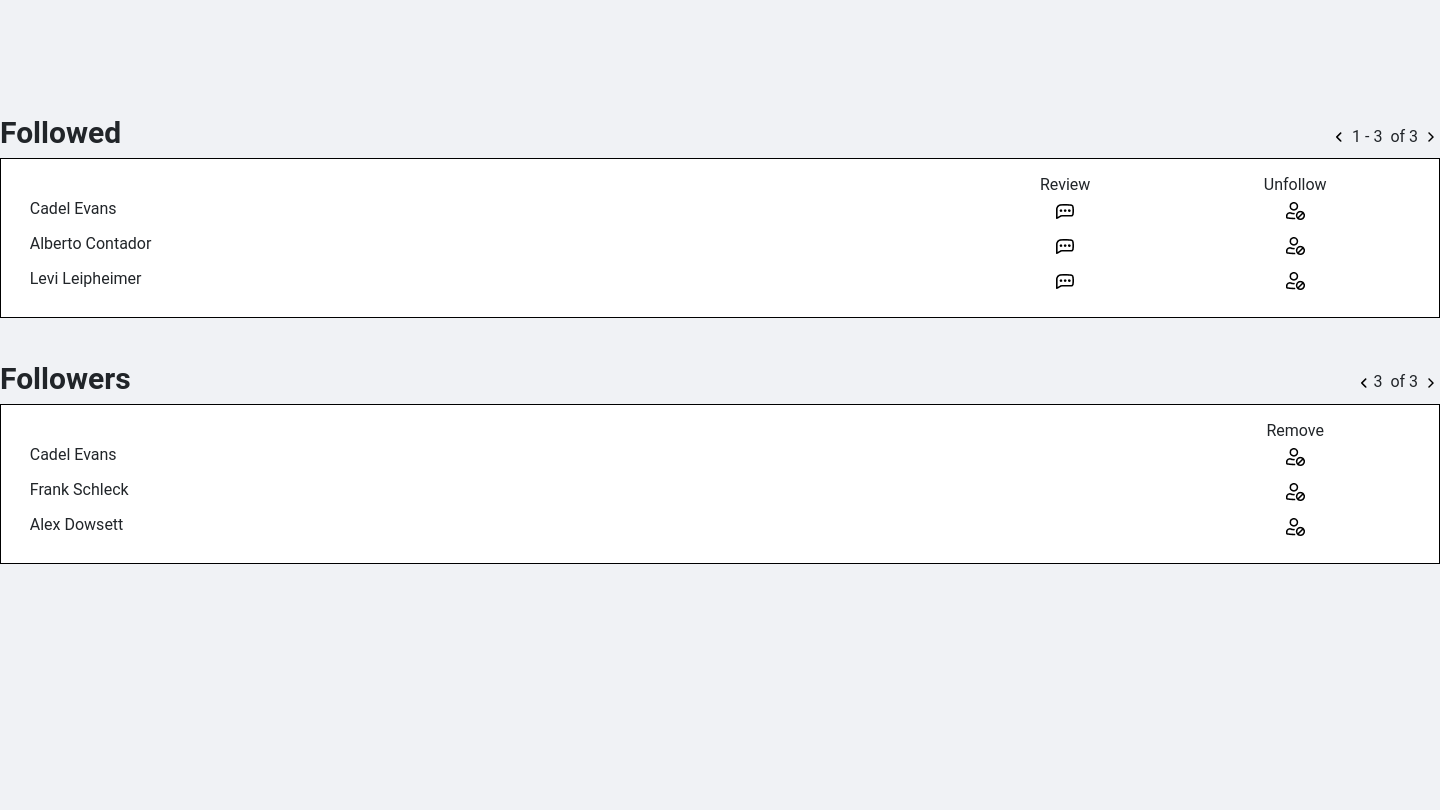
it: UI testing for the follows component › Test 6: User reviews someone they follow
The width and height of the screenshot is (1440, 810).
Step 1. Click the 3rd button with alt text "Review icon" → (1065, 210), box [1050,197,1080,223]
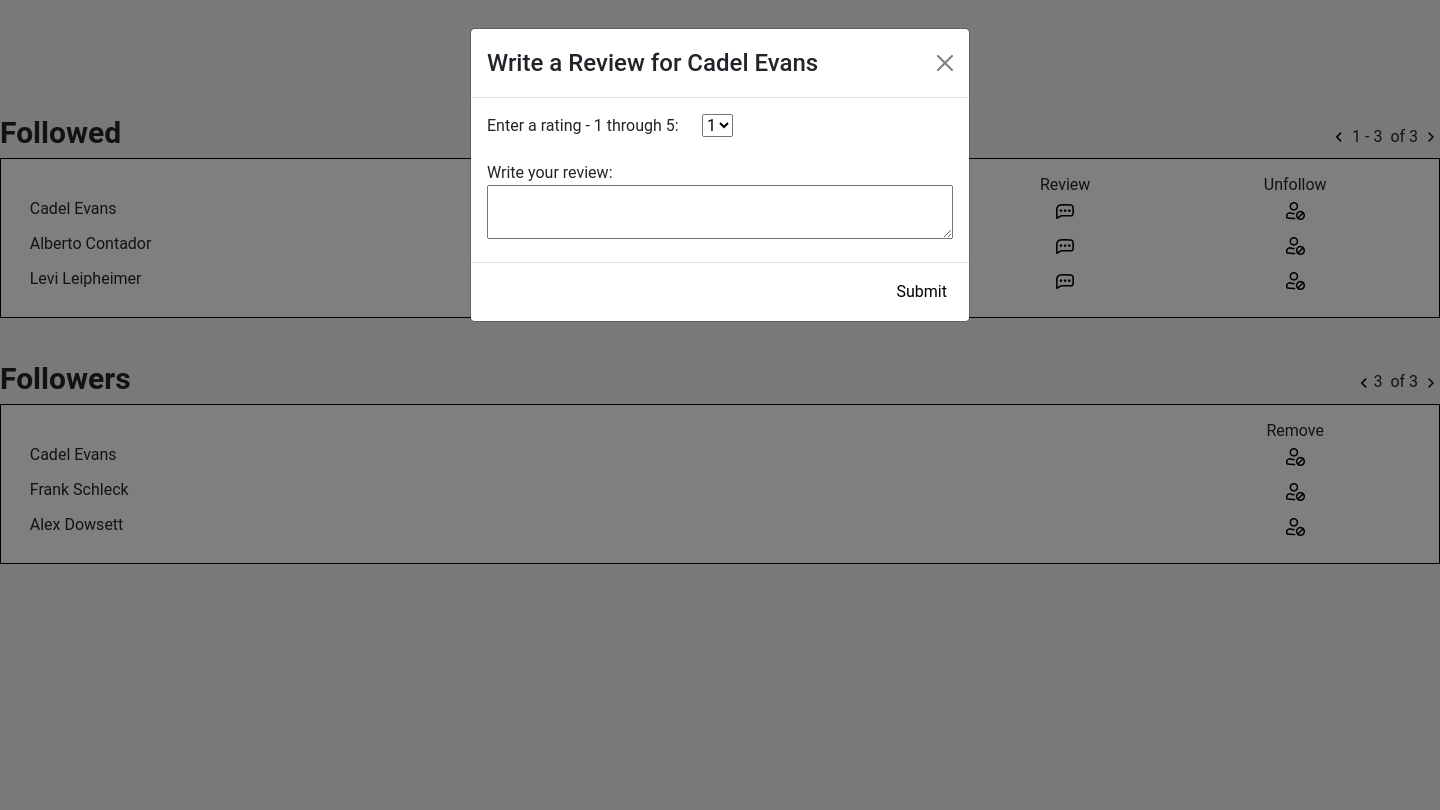
Step 2. Select "5" in the dropdown → (718, 126), box [702,114,733,137]
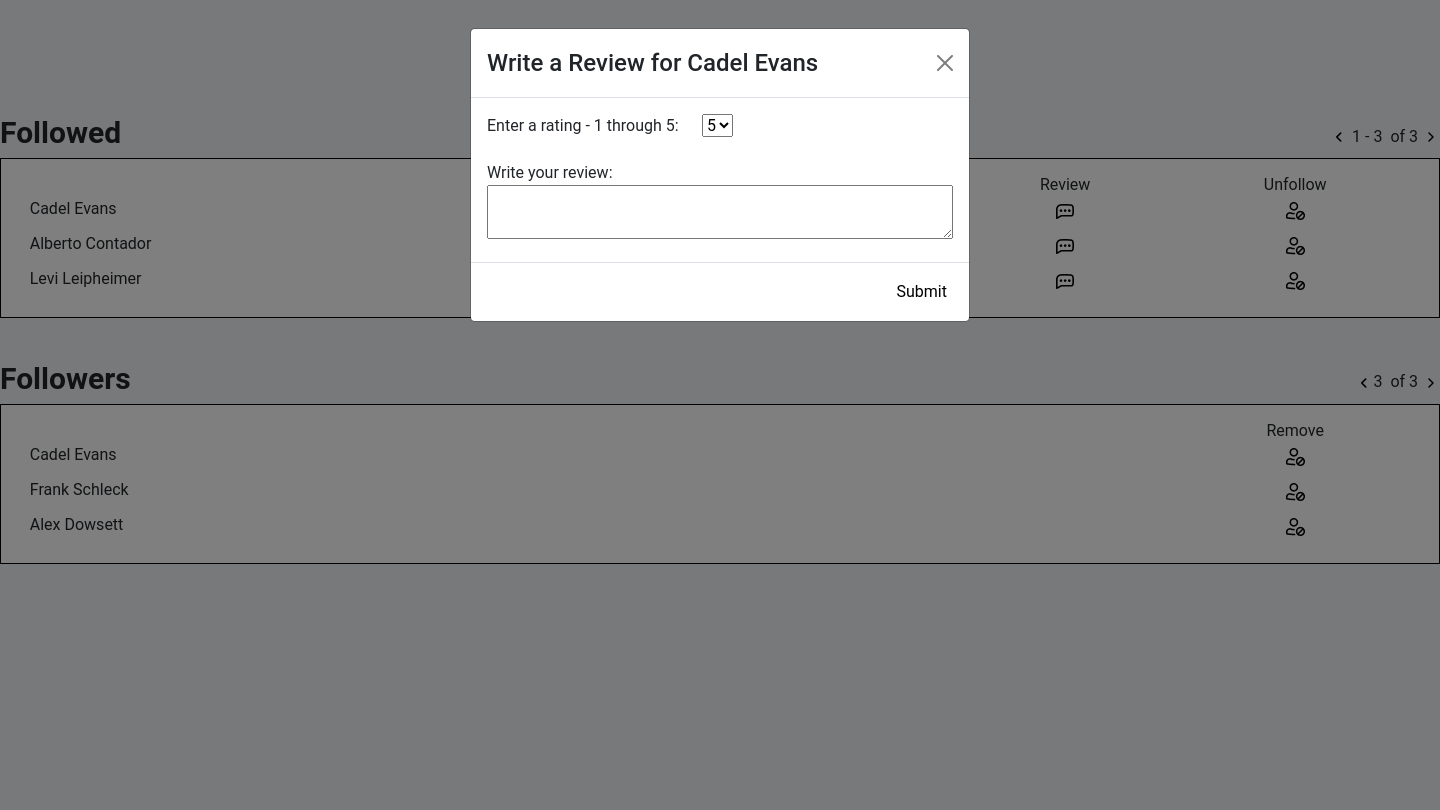
Step 3. Type "Testing review." into the text box → (720, 212), box [487,185,953,239]
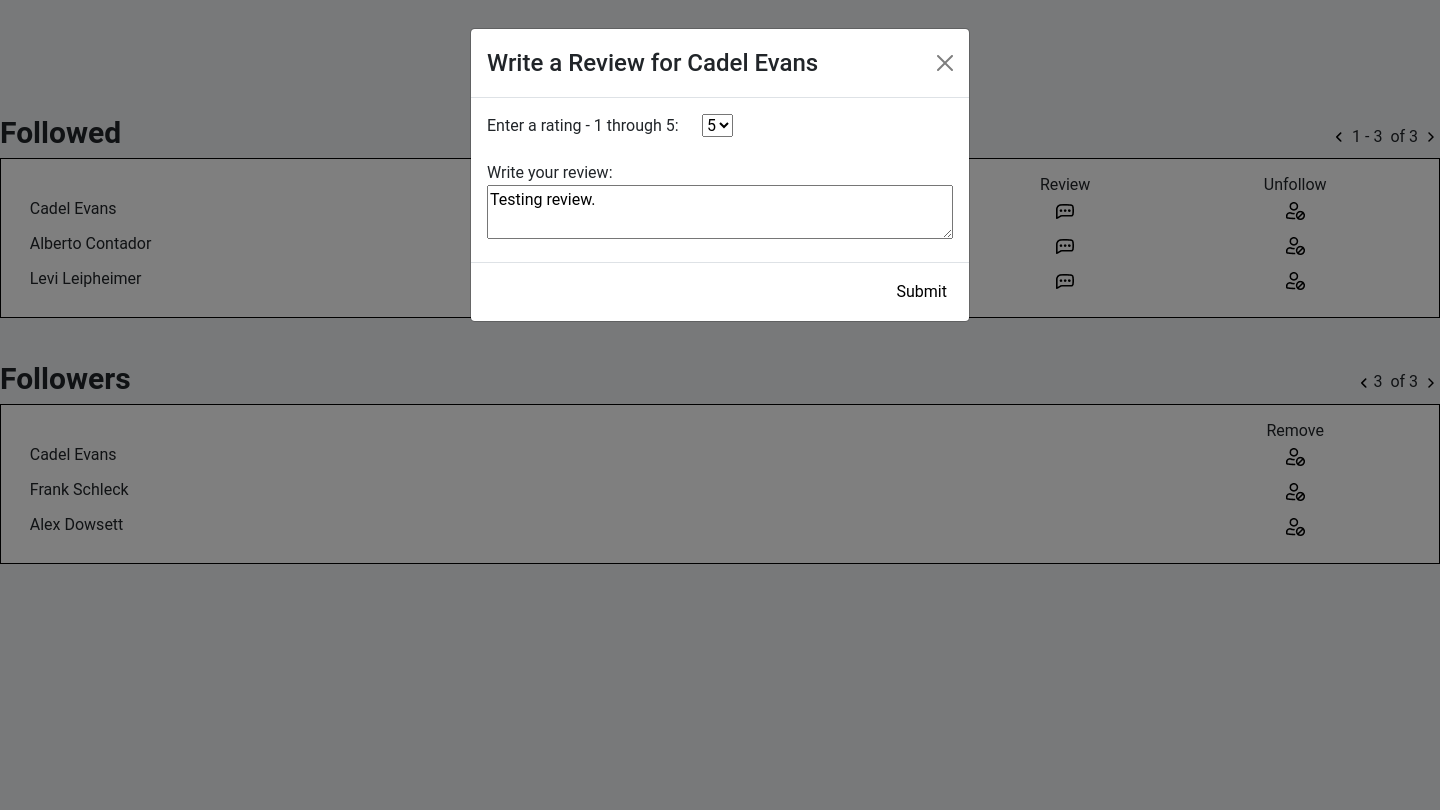
Expected: the text "Write a Review for Cadel Evans" is shown, [487,45,818,81]
Step 4. Click the button "Submit" → (922, 292), box [890,279,953,305]
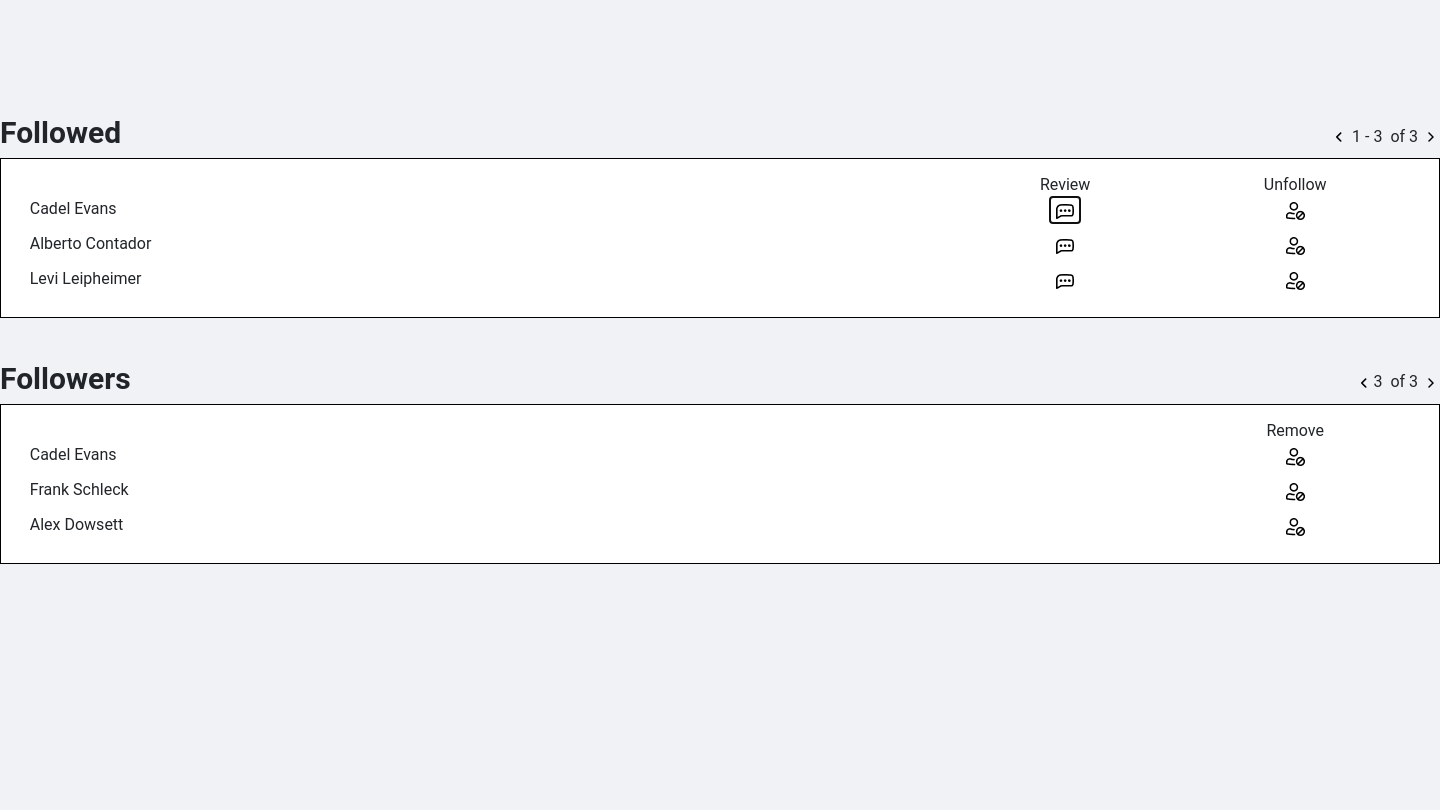
Expected: the text "Write a Review for Cadel Evans" is gone
